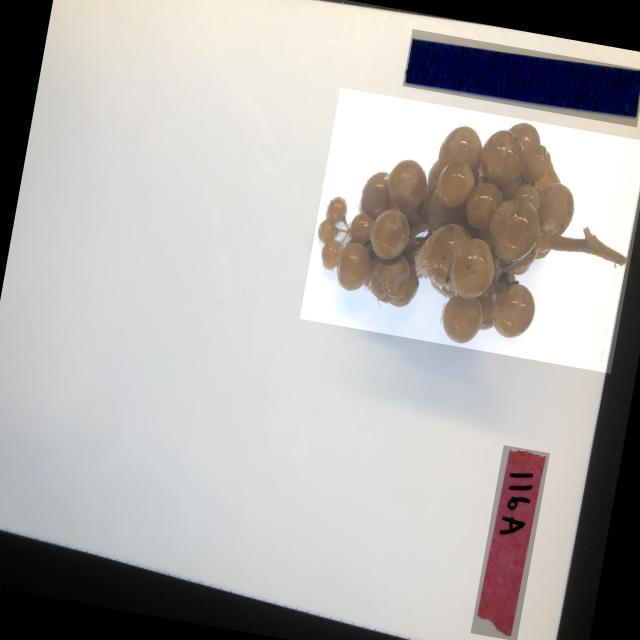grape_cluster: (298, 87, 640, 373)
index: (469, 444, 548, 640)
measure_label: (401, 28, 640, 126)
